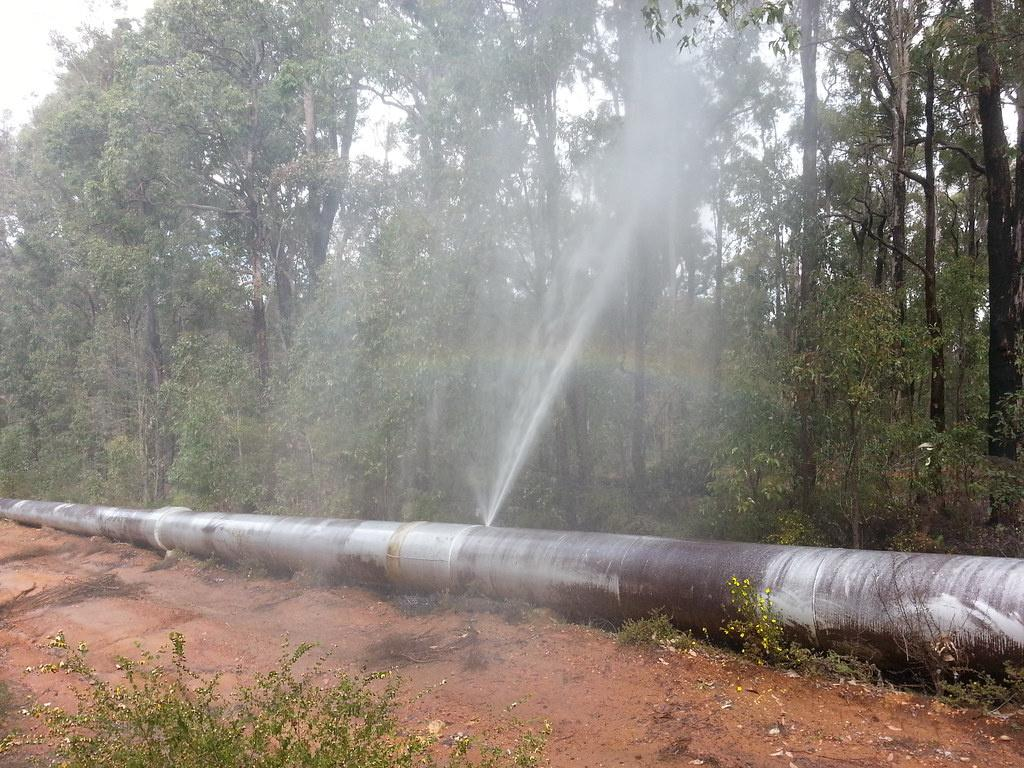pipe burst: (460, 46, 726, 534)
